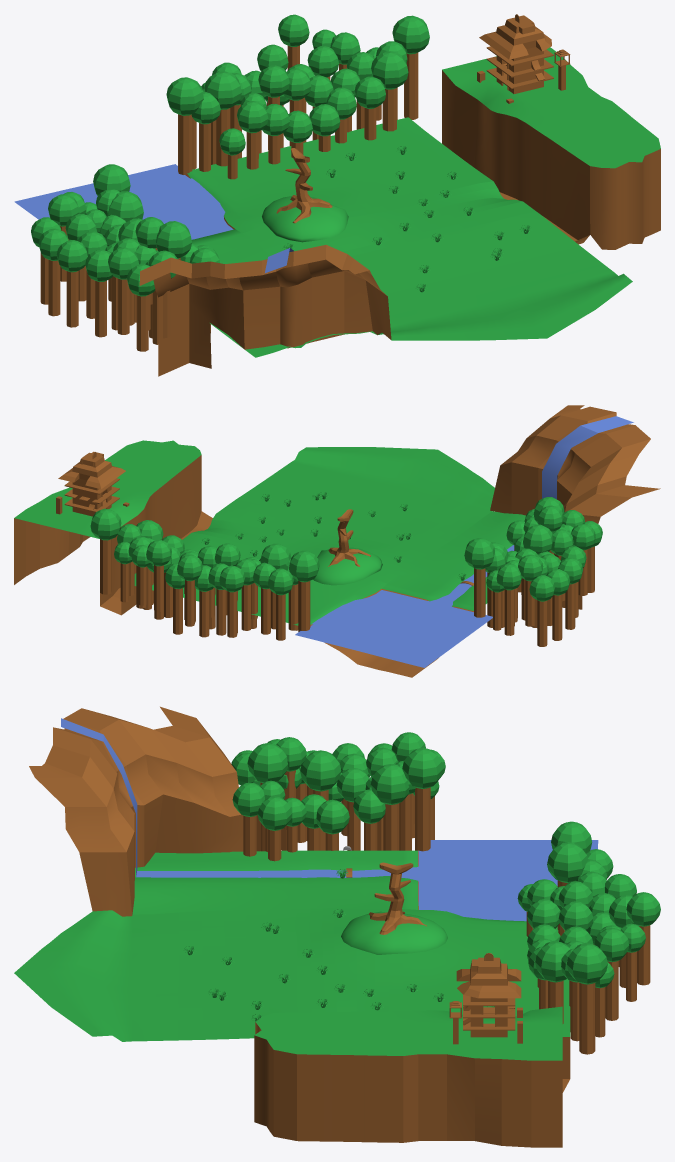
The model's file is Level 1 11-16-15.fbx.
3 views of the same model, one above another, from view 1: azimuth 30°, elevation 25°; view 2: azimuth 150°, elevation 25°; view 3: azimuth 270°, elevation 25° (orthographic). The views are drawn at different scales.
Visible parts, largest first — view 1: Ground, pPlane2, Water, pCube68, pSphere65, pSphere32, pSphere16, pSphere8, pSphere24, pSphere44, pSphere43, pSphere52 (+29 smaller); view 2: Ground, pPlane2, Water, pCube68, pSphere65, pSphere16, pSphere32, pSphere48, pSphere28, pSphere45, pSphere51, pSphere27 (+28 smaller); view 3: Ground, pPlane2, Water, pCube68, pSphere65, pSphere16, pSphere48, pSphere40, pSphere26, Hill_Tree, pSphere64, pSphere18 (+21 smaller).
Part boxes in pixels (x1,y1,x2,y2): Ground: (185, 47, 660, 357); pPlane2: (139, 245, 391, 376); Water: (14, 164, 293, 272); pCube68: (477, 14, 570, 103); pSphere65: (262, 196, 348, 242); pSphere32: (166, 77, 203, 174); pSphere16: (392, 15, 429, 119); pSphere8: (371, 51, 408, 131); pSphere24: (204, 71, 241, 166); pSphere44: (56, 240, 87, 327); pSphere43: (108, 247, 138, 334); pSphere52: (38, 228, 68, 316); Ground: (14, 440, 525, 677); pPlane2: (490, 405, 660, 609); Water: (295, 416, 633, 667); pCube68: (56, 451, 129, 516); pSphere65: (313, 547, 382, 585); pSphere16: (90, 508, 121, 594); pSphere32: (289, 550, 319, 631); pSphere48: (464, 538, 494, 617); pSphere28: (219, 565, 245, 637); pSphere45: (529, 575, 555, 646); pSphere51: (496, 563, 521, 635); pSphere27: (177, 554, 202, 626); Ground: (14, 850, 570, 1147); pPlane2: (29, 706, 243, 916); Water: (61, 718, 598, 921); pCube68: (449, 953, 522, 1044); pSphere65: (341, 911, 447, 954); pSphere16: (566, 943, 607, 1054); pSphere48: (402, 748, 443, 851); pSphere40: (370, 764, 409, 850); pSphere26: (626, 892, 660, 985); Hill_Tree: (369, 862, 426, 934); pSphere64: (300, 750, 341, 850); pSphere18: (595, 927, 628, 1020).
Bounding box in the file's own units: 504 × 132 × 445.
